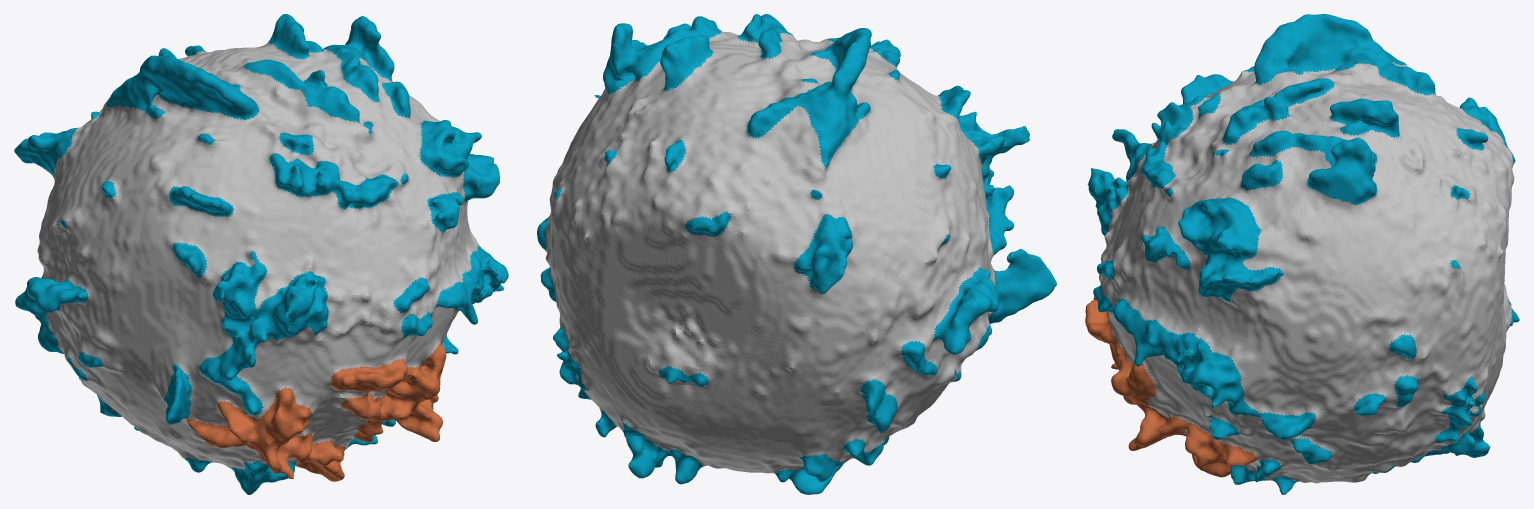
3 views of the same model, side by side, from view 1: azimuth 30°, elevation 25°; view 2: azimuth 150°, elevation 25°; view 3: azimuth 270°, elevation 25° (orthographic). The views are drawn at different scales.
Bounding box in the file's own units: 163 × 158 × 149.
